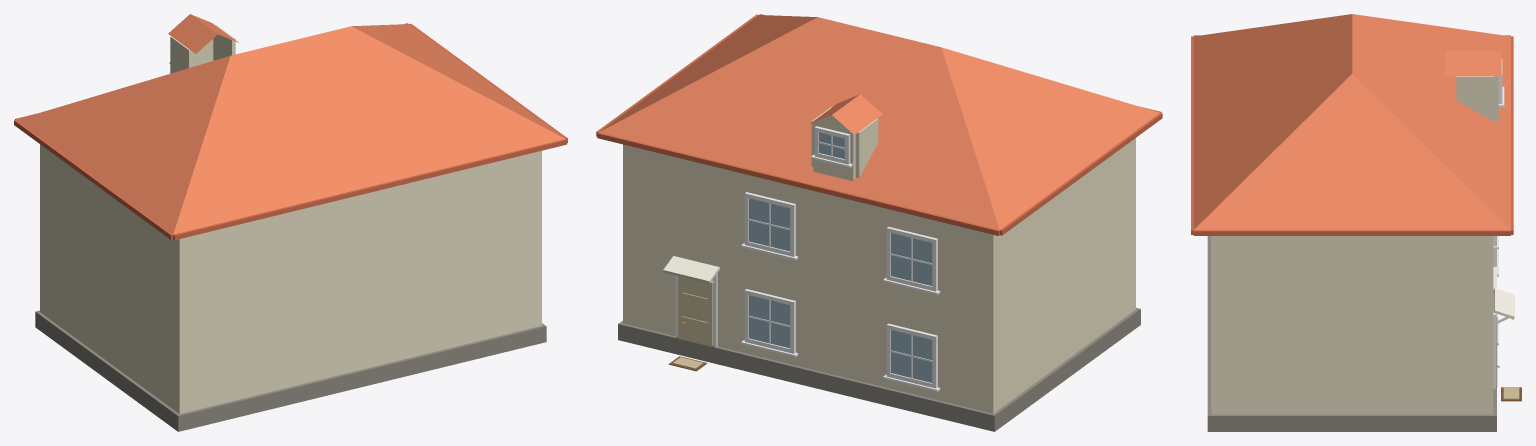
File: qa_wide_facade.glb
The picture shows the model from 3 angles, left to right: view 1: azimuth 30°, elevation 25°; view 2: azimuth 150°, elevation 25°; view 3: azimuth 270°, elevation 25°; orthographic projection. The views are drawn at different scales.
Visible parts, largest first — view 1: House_Body, House_Roof, House_Dormer; view 2: House_Body, House_Roof, House_Windows, House_Dormer, House_Door, House_Awning; view 3: House_Roof, House_Body, House_Dormer, House_Awning, House_Windows, House_Door.
Boxes of the visible parts, <box> form: House_Body: <box>35,144,546,431</box>; House_Roof: <box>14,23,567,240</box>; House_Dormer: <box>168,14,238,73</box>; House_Body: <box>618,138,1140,431</box>; House_Roof: <box>596,14,1162,235</box>; House_Windows: <box>741,126,940,391</box>; House_Dormer: <box>810,94,882,181</box>; House_Door: <box>675,273,717,347</box>; House_Awning: <box>663,256,719,283</box>; House_Roof: <box>1191,14,1513,235</box>; House_Body: <box>1207,236,1496,431</box>; House_Dormer: <box>1445,51,1501,122</box>; House_Awning: <box>1493,288,1514,323</box>; House_Windows: <box>1493,59,1504,345</box>; House_Door: <box>1493,295,1499,388</box>.
Bounding box in the file's own units: 13.15 × 9.3 × 9.39.
